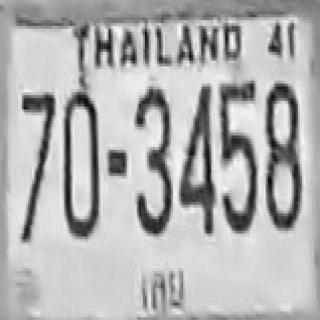N00: (62, 88, 99, 235)
N03: (133, 84, 171, 234)
N04: (178, 82, 214, 232)
N05: (218, 78, 257, 231)
N07: (19, 90, 55, 236), (20, 89, 54, 205), (20, 89, 54, 185)
N08: (264, 81, 300, 228)
P22: (130, 259, 194, 317)
